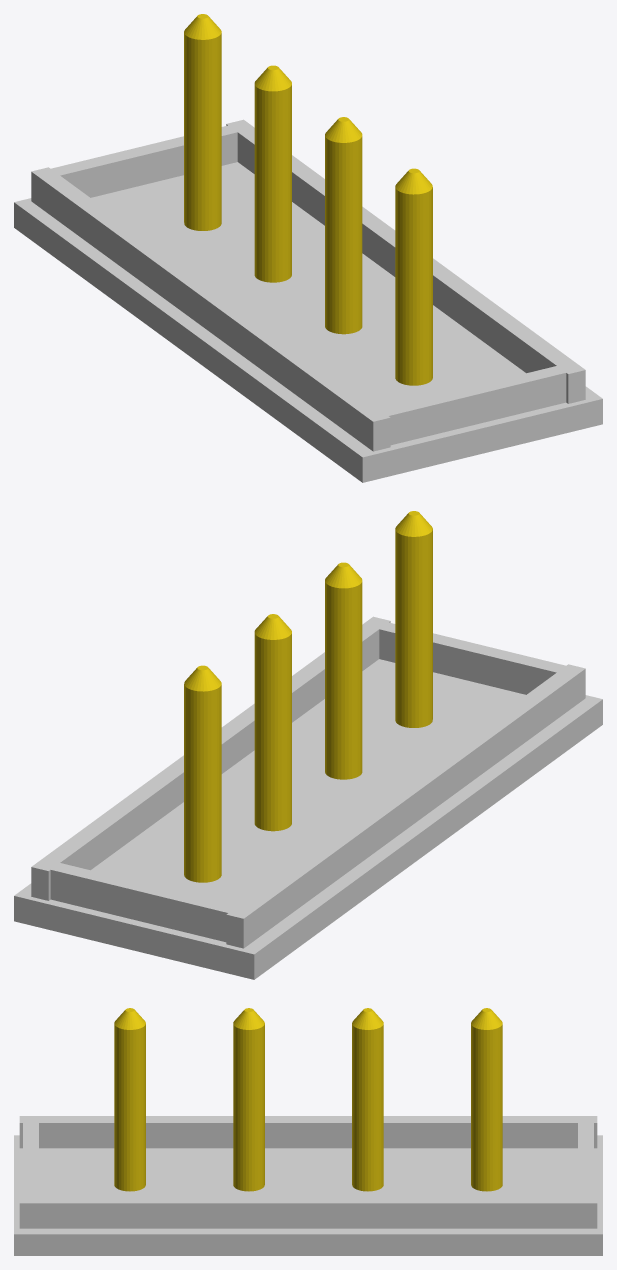
Rendered from pin-socket.fbx.
The picture shows the model from 3 angles, top to bottom: view 1: azimuth 30°, elevation 25°; view 2: azimuth 150°, elevation 25°; view 3: azimuth 270°, elevation 25°; orthographic projection. The views are drawn at different scales.
Parts seen in each view (by area): view 1: Cylinder.002; view 2: Cylinder.002; view 3: Cylinder.002.
Part boxes in pixels (x1,y1,x2,y2): Cylinder.002: (14,14,602,482); Cylinder.002: (14,511,602,979); Cylinder.002: (14,1008,602,1255).
Bounding box in the file's own units: 743 × 296 × 273.
